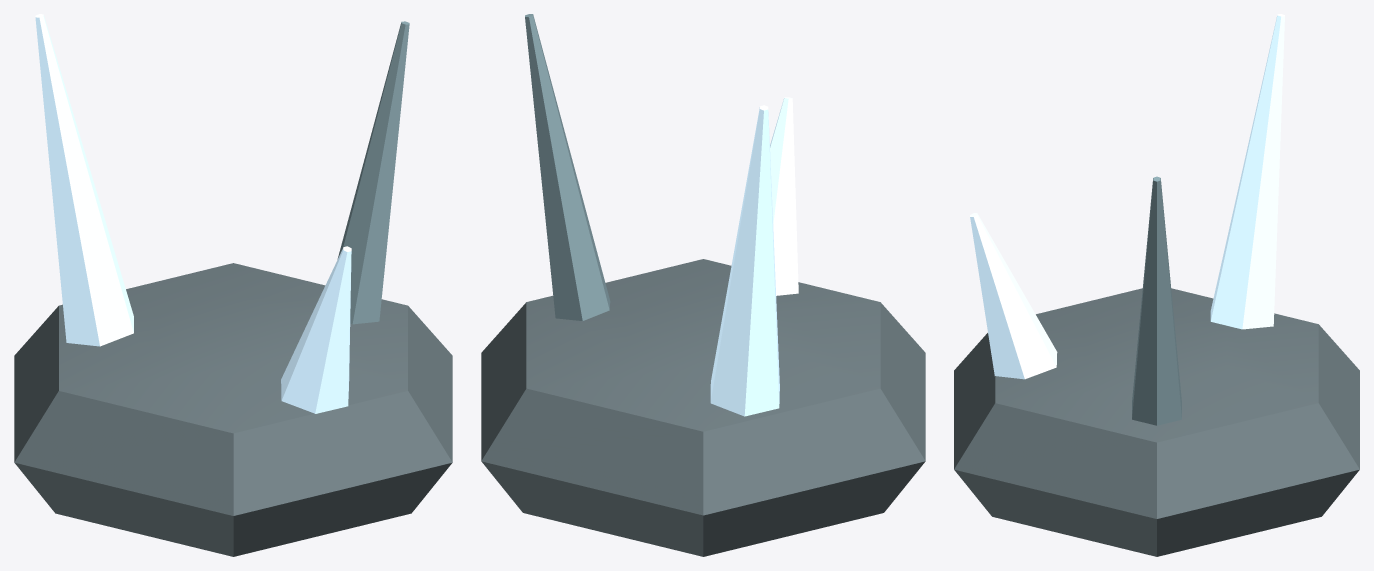
Rendered from prop_prism_vein_a_v4_ShadowProxy.glb.
3 renders of one model, left to right at view 1: azimuth 30°, elevation 25°; view 2: azimuth 150°, elevation 25°; view 3: azimuth 270°, elevation 25°, orthographic. The views are drawn at different scales.
Visible parts, largest first — view 1: prop_prism_vein_a_v4_ShadowProxy / Natural silhouette; view 2: prop_prism_vein_a_v4_ShadowProxy / Natural silhouette; view 3: prop_prism_vein_a_v4_ShadowProxy / Natural silhouette.
Part boxes in pixels (x1,y1,x2,y2): prop_prism_vein_a_v4_ShadowProxy / Natural silhouette: (14, 14, 452, 556); prop_prism_vein_a_v4_ShadowProxy / Natural silhouette: (481, 14, 925, 556); prop_prism_vein_a_v4_ShadowProxy / Natural silhouette: (954, 14, 1359, 556).
Bounding box in the file's own units: 1.28 × 1.22 × 1.11.
